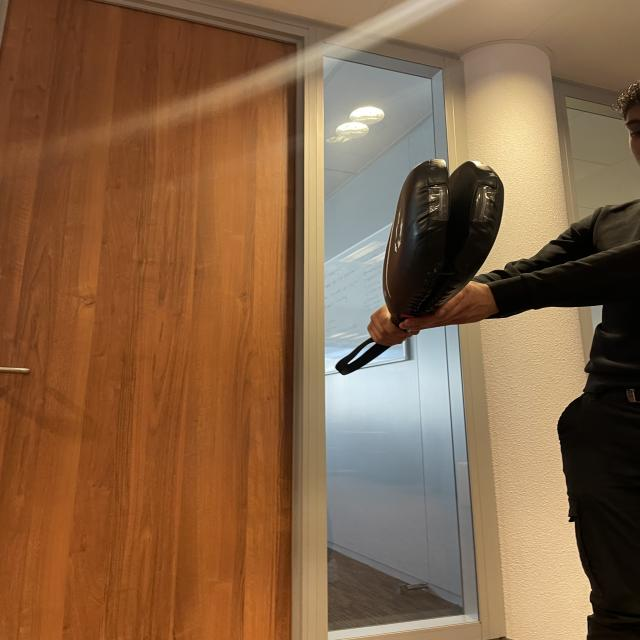paddle: (383, 159, 503, 316)
